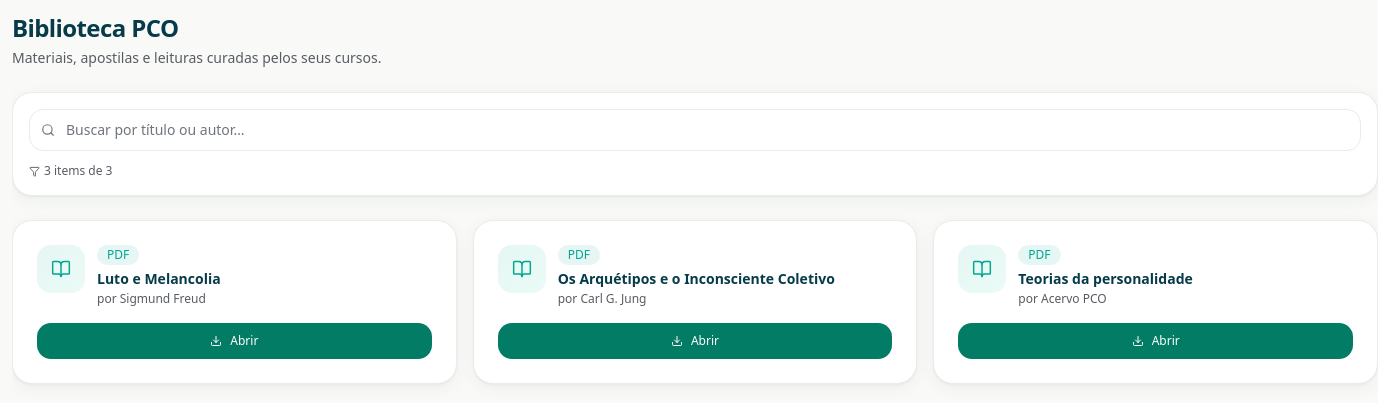
Test: a busca acha o que 108 cartões escondem › acha pelo título
The image size is (1378, 403).
In the search field: (695, 130) [29, 109, 1361, 151], type "melancolia"
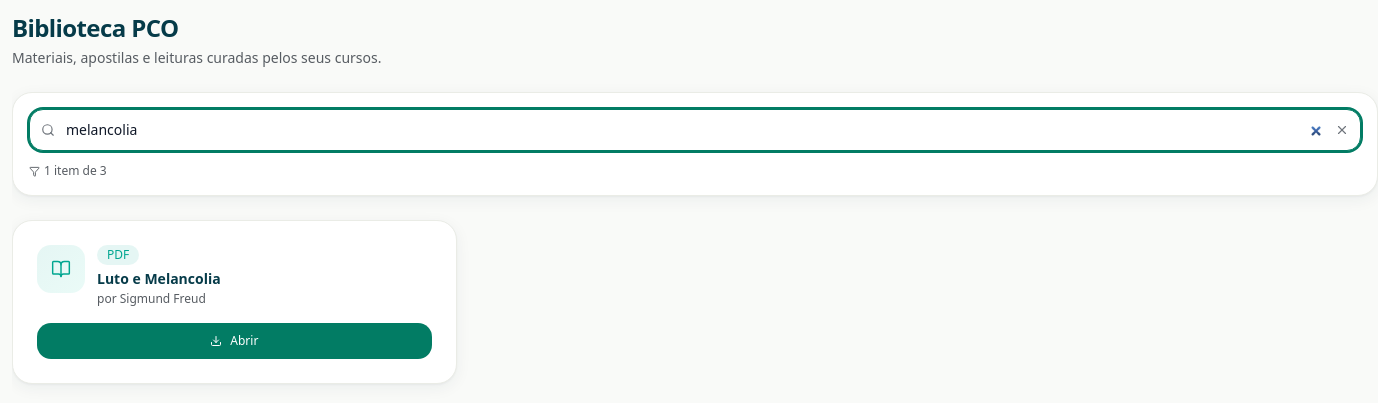
Check: the heading "Luto e Melancolia" is shown, box [97, 269, 221, 288]
Check: the heading "Teorias da personalidade" is gone
